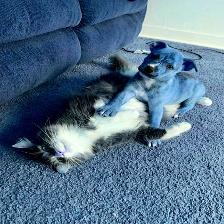kedo: (12, 75, 211, 176)
